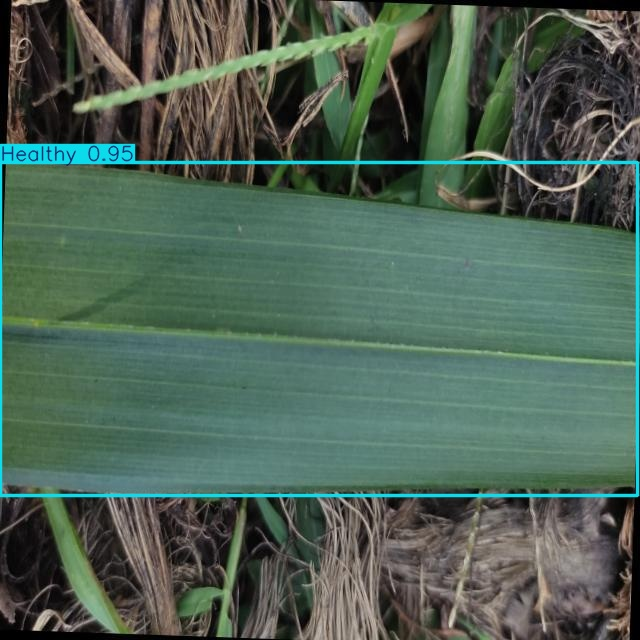Healthy: (0, 162, 637, 495)
